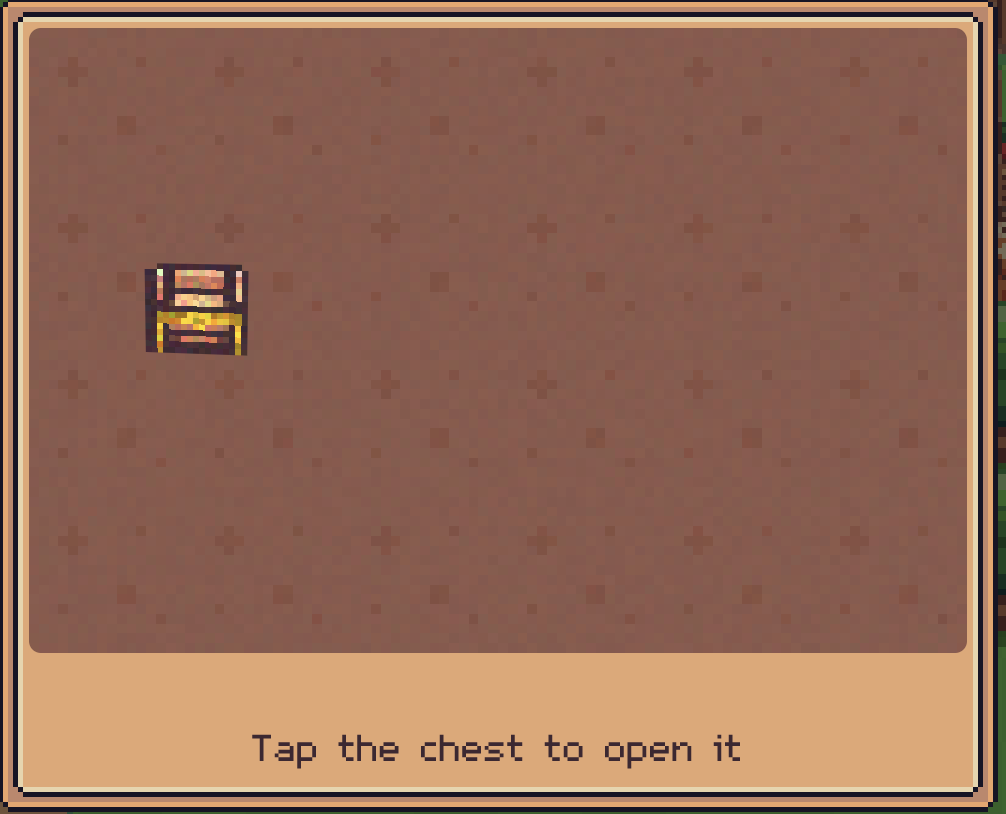capcha_chest: (146, 262, 254, 359)
